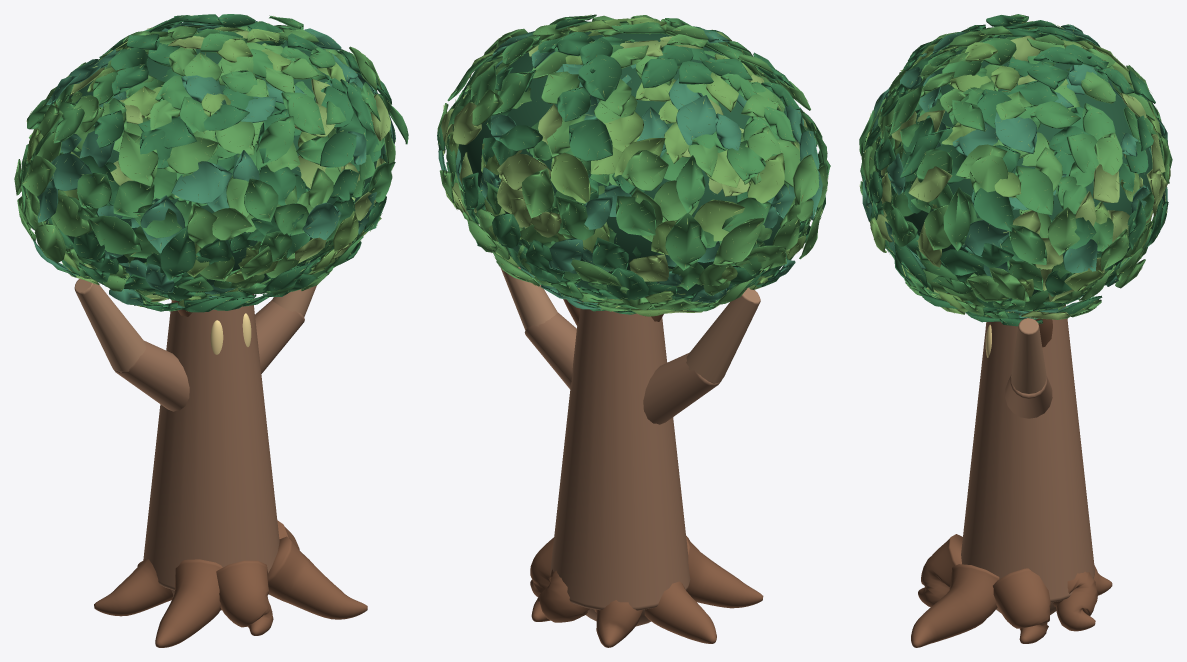
Rendered from morinokami.glb.
The picture shows the model from 3 angles, left to right: view 1: azimuth 30°, elevation 25°; view 2: azimuth 150°, elevation 25°; view 3: azimuth 270°, elevation 25°; orthographic projection. The views are drawn at different scales.
Visible parts, largest first — view 1: Canopy | 1000 sculpted veined leaves, Main trunk, Arms and roots | rounded branching wood.011, Left branch tip, Left branch lower, Canopy | raised midribs and lateral veins, Canopy | hidden deep-green core, Right branch lower, Right branch tip, Left golden eye; view 2: Canopy | 1000 sculpted veined leaves, Main trunk, Arms and roots | rounded branching wood.011, Canopy | hidden deep-green core, Left branch tip, Left branch lower, Canopy | raised midribs and lateral veins, Right branch lower, Right branch tip; view 3: Canopy | 1000 sculpted veined leaves, Main trunk, Arms and roots | rounded branching wood.011, Canopy | hidden deep-green core, Canopy | raised midribs and lateral veins, Right branch tip, Right branch lower.
Boxes of the visible parts, <box> form: Canopy | 1000 sculpted veined leaves: <box>14,14,408,312</box>; Main trunk: <box>143,294,279,590</box>; Arms and roots | rounded branching wood.011: <box>94,520,367,647</box>; Left branch tip: <box>74,279,146,372</box>; Left branch lower: <box>113,340,189,411</box>; Canopy | raised midribs and lateral veins: <box>16,15,408,311</box>; Canopy | hidden deep-green core: <box>46,31,383,294</box>; Right branch lower: <box>255,300,304,373</box>; Right branch tip: <box>272,285,316,317</box>; Left golden eye: <box>210,313,251,354</box>; Canopy | 1000 sculpted veined leaves: <box>437,14,830,316</box>; Main trunk: <box>549,299,690,610</box>; Arms and roots | rounded branching wood.011: <box>530,535,763,647</box>; Canopy | hidden deep-green core: <box>458,31,785,297</box>; Left branch tip: <box>686,287,760,383</box>; Left branch lower: <box>643,352,721,424</box>; Canopy | raised midribs and lateral veins: <box>437,14,830,314</box>; Right branch lower: <box>524,312,576,389</box>; Right branch tip: <box>500,267,557,330</box>; Canopy | 1000 sculpted veined leaves: <box>859,14,1172,326</box>; Main trunk: <box>961,304,1094,602</box>; Arms and roots | rounded branching wood.011: <box>911,534,1112,647</box>; Canopy | hidden deep-green core: <box>879,37,1152,300</box>; Canopy | raised midribs and lateral veins: <box>859,15,1171,324</box>; Right branch tip: <box>1011,318,1046,394</box>; Right branch lower: <box>1005,375,1052,418</box>.
Bounding box in the file's own units: 5.03 × 7.87 × 3.92.
